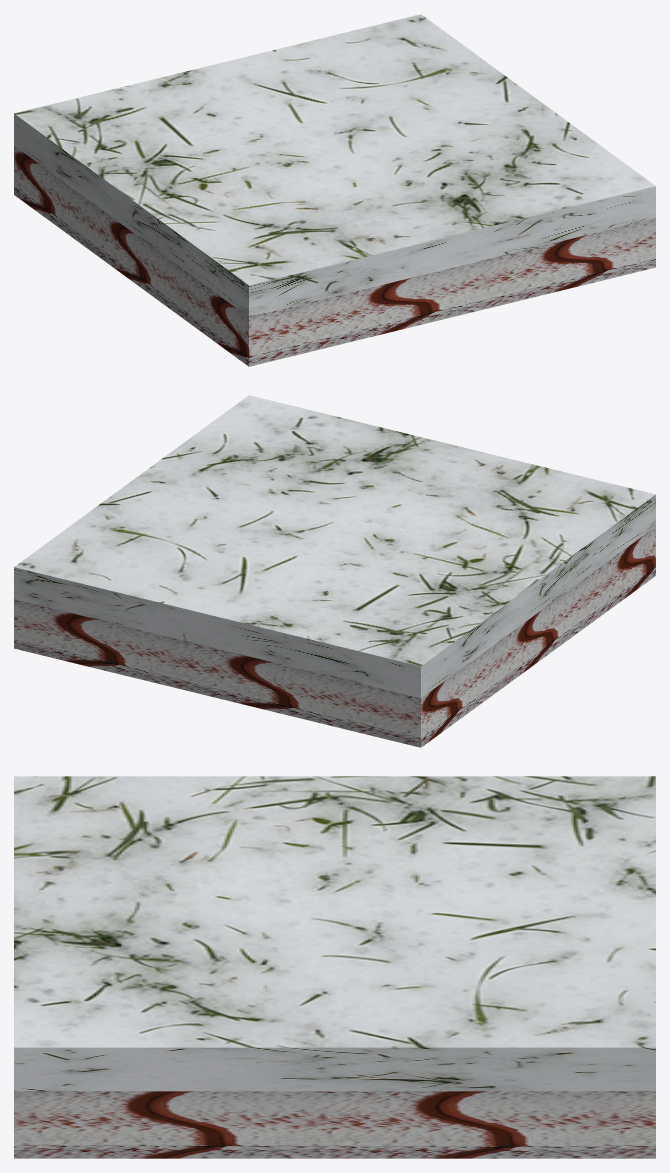
Rendered from RoofTile.fbx.
The picture shows the model from 3 angles, top to bottom: view 1: azimuth 30°, elevation 25°; view 2: azimuth 150°, elevation 25°; view 3: azimuth 270°, elevation 25°; orthographic projection. The views are drawn at different scales.
Visible parts, largest first — view 1: Cube; view 2: Cube; view 3: Cube.
Boxes of the visible parts, x1=… form: Cube: x1=14, y1=14, x2=655, y2=366; Cube: x1=14, y1=395, x2=655, y2=747; Cube: x1=14, y1=776, x2=655, y2=1158.
Bounding box in the file's own units: 200 × 38.22 × 200.
